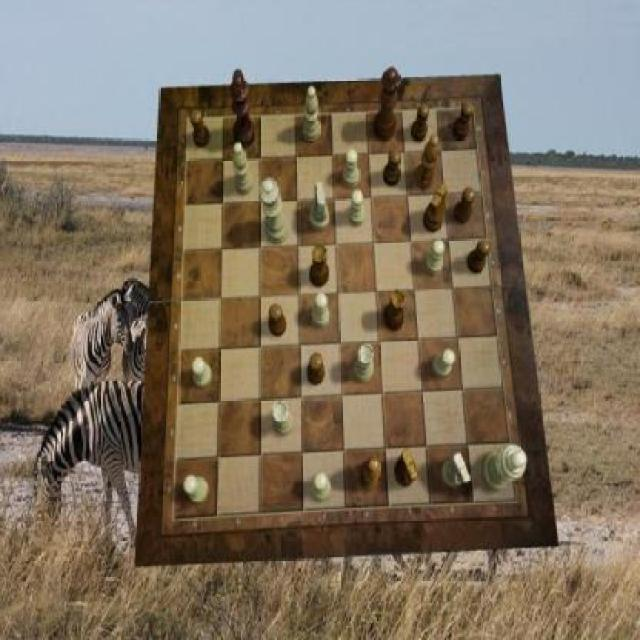bishop: (416, 134, 440, 190), (358, 457, 382, 491)
black-bishop: (231, 69, 255, 149)
black-king: (423, 183, 448, 232), (396, 448, 418, 486)
black-knight: (452, 102, 473, 140), (454, 188, 476, 224), (191, 109, 211, 148), (468, 238, 490, 272), (383, 149, 401, 187), (411, 103, 428, 142), (269, 303, 287, 337), (308, 354, 325, 386)
black-pawn: (372, 68, 400, 142)
black-queen: (383, 289, 406, 332), (309, 244, 329, 288)
black-rook: (234, 142, 254, 196), (303, 86, 321, 142)
white-bishop: (480, 446, 527, 492)
white-king: (442, 452, 472, 487), (309, 182, 329, 230)
white-knight: (426, 240, 446, 276), (185, 474, 209, 503), (343, 149, 360, 188), (432, 351, 456, 378), (349, 189, 366, 227), (312, 292, 330, 327), (192, 357, 212, 388), (312, 474, 332, 501)
white-pawn: (258, 177, 288, 243)
white-queen: (272, 400, 295, 436), (354, 344, 374, 384)
